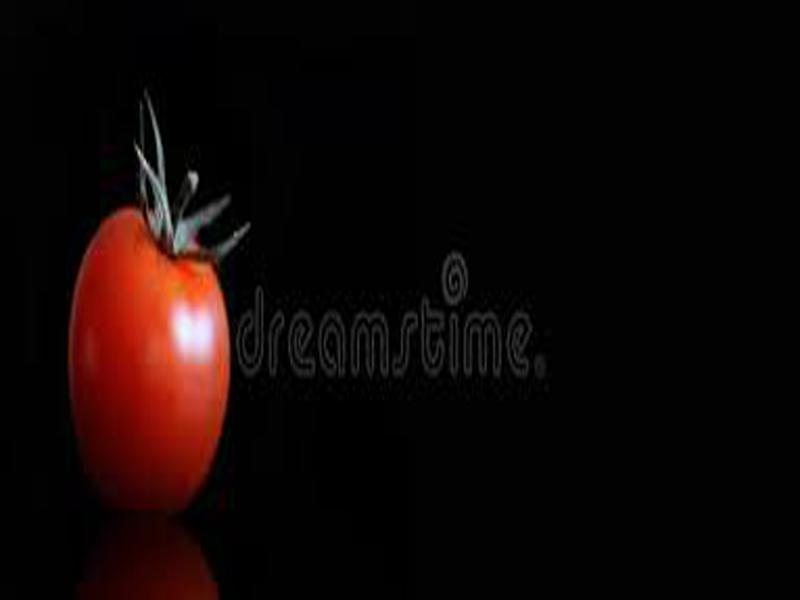Tomato: (69, 205, 230, 509)
